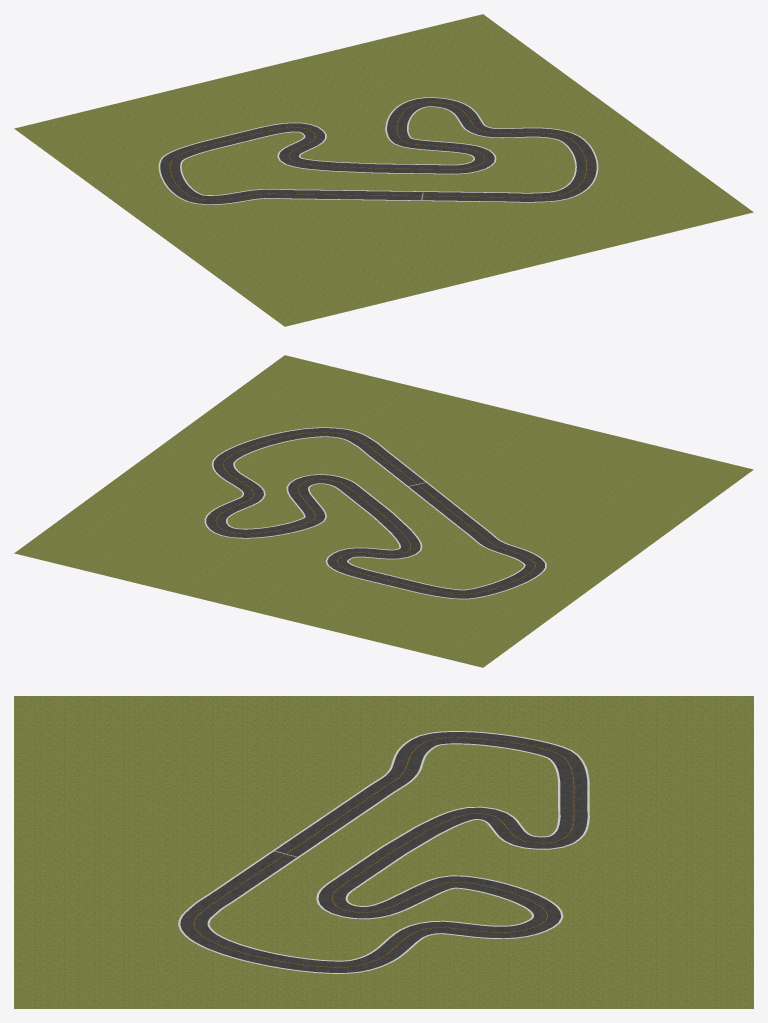
Rendered from 2022_april_pro.dae.
The picture shows the model from 3 angles, top to bottom: view 1: azimuth 30°, elevation 25°; view 2: azimuth 150°, elevation 25°; view 3: azimuth 270°, elevation 25°; orthographic projection. The views are drawn at different scales.
Visible parts, largest first — view 1: field, road, ol, il; view 2: field, road, ol, il; view 3: field, road, ol, il, cl.
Boxes of the visible parts, x1=… form: field: x1=14, y1=14, x2=753, y2=326; road: x1=160, y1=98, x2=596, y2=204; ol: x1=158, y1=97, x2=598, y2=204; il: x1=180, y1=106, x2=576, y2=195; field: x1=14, y1=355, x2=753, y2=667; road: x1=206, y1=428, x2=544, y2=598; ol: x1=204, y1=427, x2=546, y2=599; il: x1=226, y1=436, x2=525, y2=590; field: x1=14, y1=696, x2=753, y2=1008; road: x1=180, y1=732, x2=587, y2=973; ol: x1=178, y1=731, x2=589, y2=973; il: x1=207, y1=743, x2=560, y2=961; cl: x1=193, y1=737, x2=574, y2=967.
Bounding box in the file's own units: 25 × 25 × 0.0025.
Materials: 6 (6 with a texture image).
